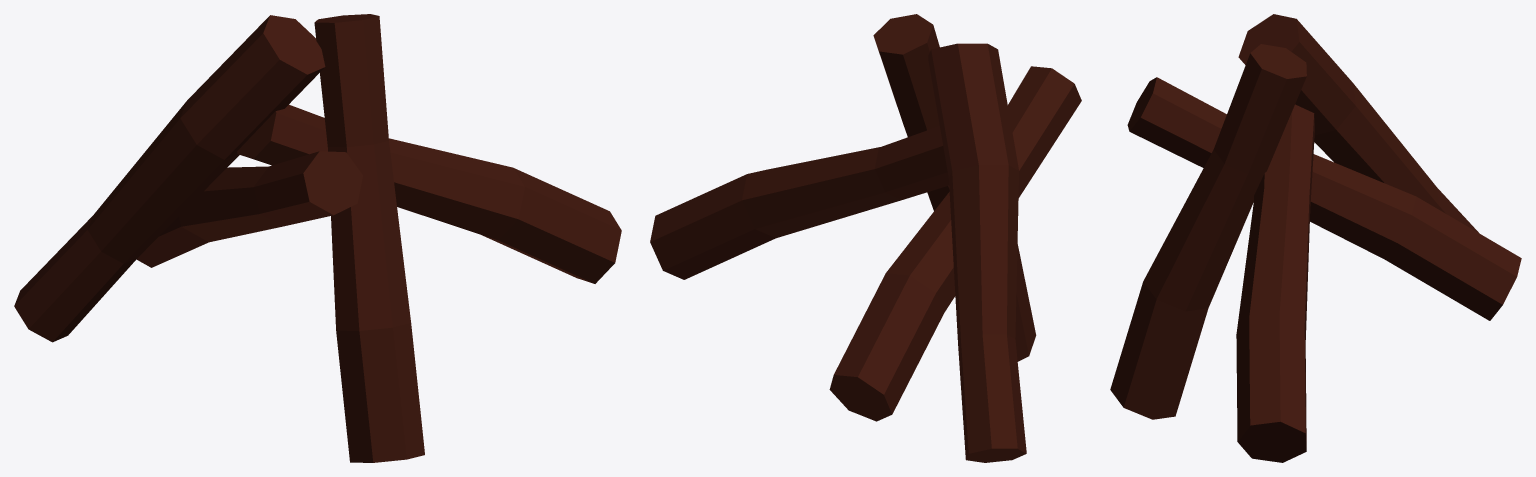
The model's file is CampfirRaw.obj.
The picture shows the model from 3 angles, left to right: view 1: azimuth 30°, elevation 25°; view 2: azimuth 150°, elevation 25°; view 3: azimuth 270°, elevation 25°; orthographic projection. The views are drawn at different scales.
Parts seen in each view (by area): view 1: Cylinder, Cylinder.004, Cylinder.001, Cylinder.003; view 2: Cylinder.004, Cylinder.001, Cylinder.003, Cylinder; view 3: Cylinder, Cylinder.001, Cylinder.003, Cylinder.004.
Part boxes in pixels (x1,y1,x2,y2): Cylinder: (314, 14, 424, 462); Cylinder.004: (14, 15, 325, 342); Cylinder.001: (237, 104, 621, 283); Cylinder.003: (136, 151, 362, 267); Cylinder.004: (928, 43, 1026, 462); Cylinder.001: (650, 126, 949, 279); Cylinder.003: (829, 66, 1081, 421); Cylinder: (873, 14, 1036, 361); Cylinder: (1110, 44, 1306, 419); Cylinder.001: (1236, 104, 1314, 462); Cylinder.003: (1127, 77, 1521, 320); Cylinder.004: (1238, 14, 1479, 233).
Size of the model in its own units: 6.75 by 5.3 by 5.26.
